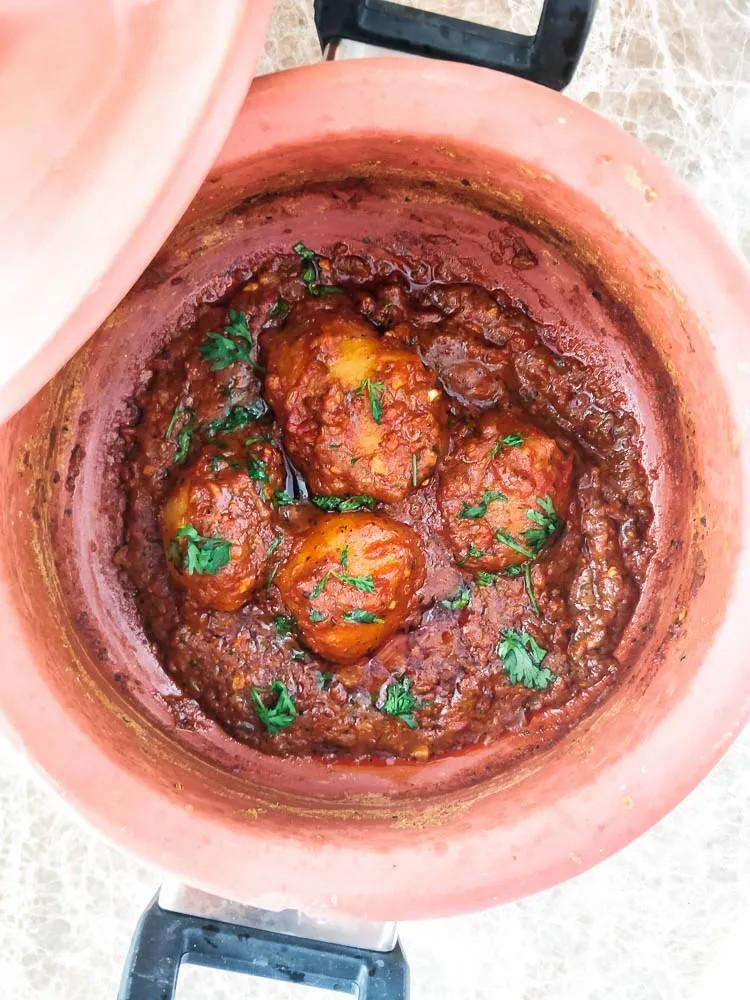DumAloo: (123, 278, 618, 741)
